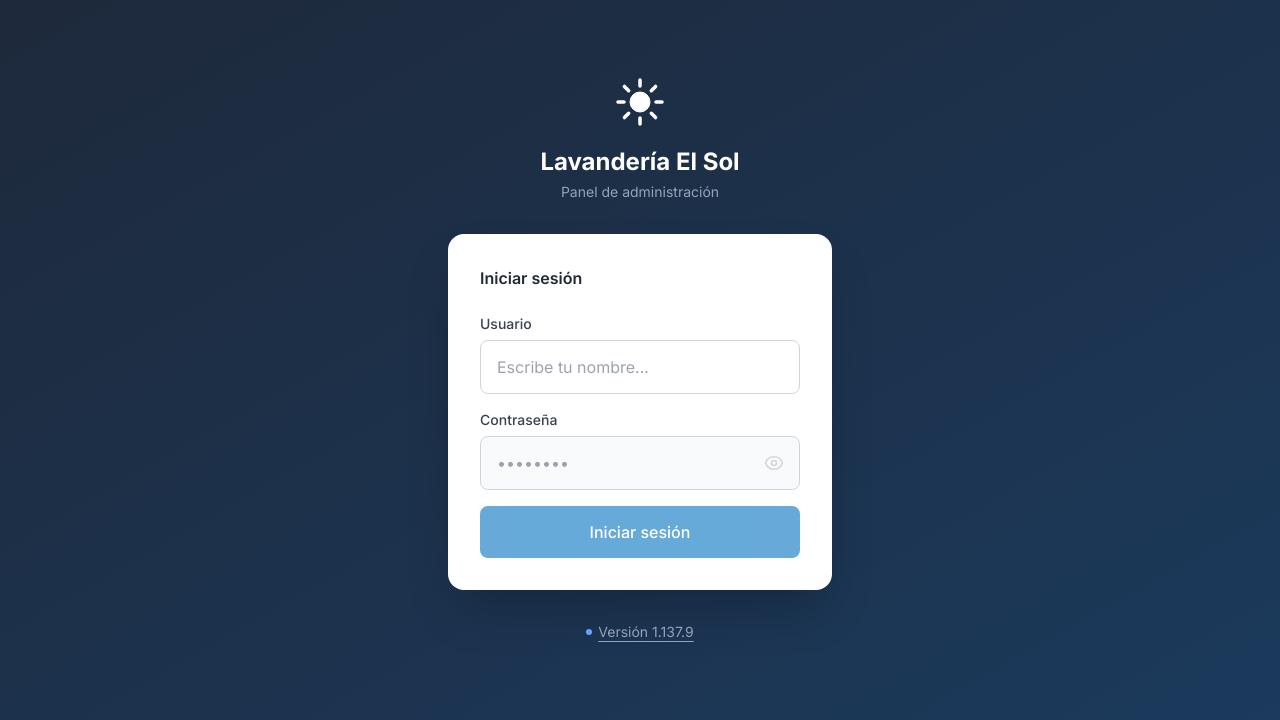
Scenario: Login › la contraseña está deshabilitada hasta elegir un usuario
Expected: the password field with placeholder "••••••••" is disabled, [480, 436, 800, 490]
Type "Juan" into the field with placeholder "Escribe tu nombre..." at (640, 367), box [480, 340, 800, 394]
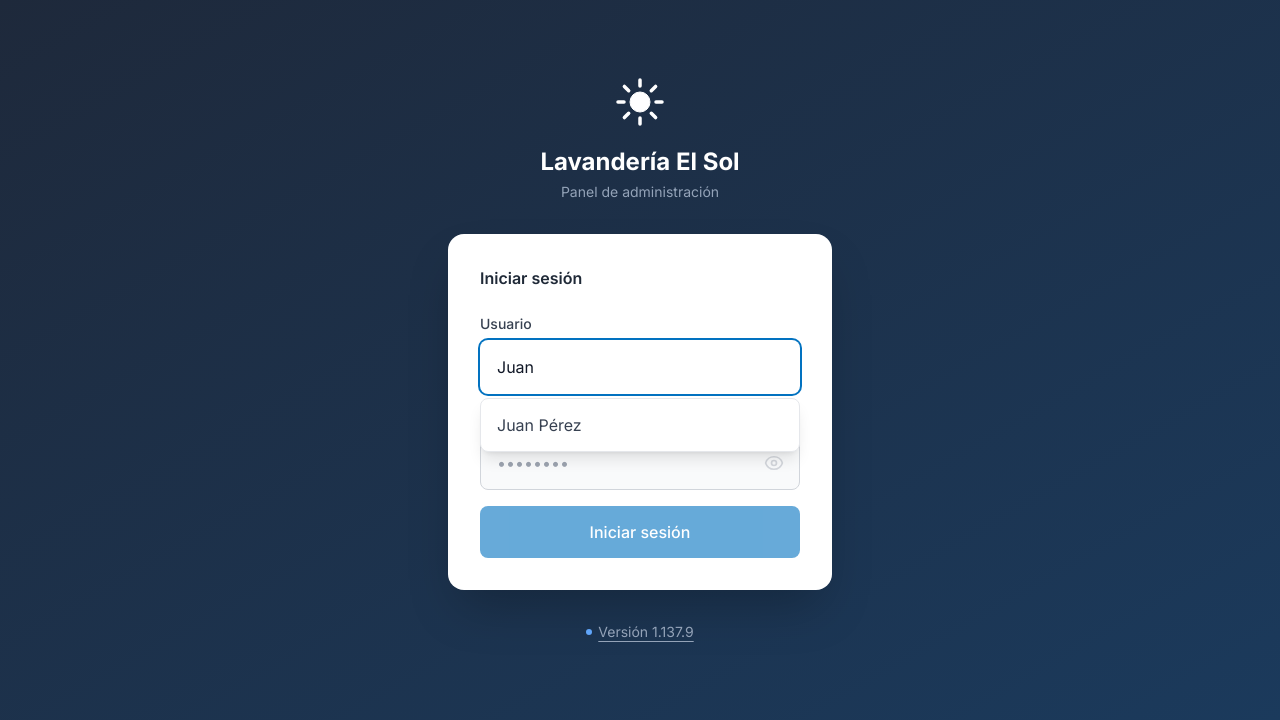
Click the button "Juan Pérez" at (539, 425), box [481, 399, 799, 451]
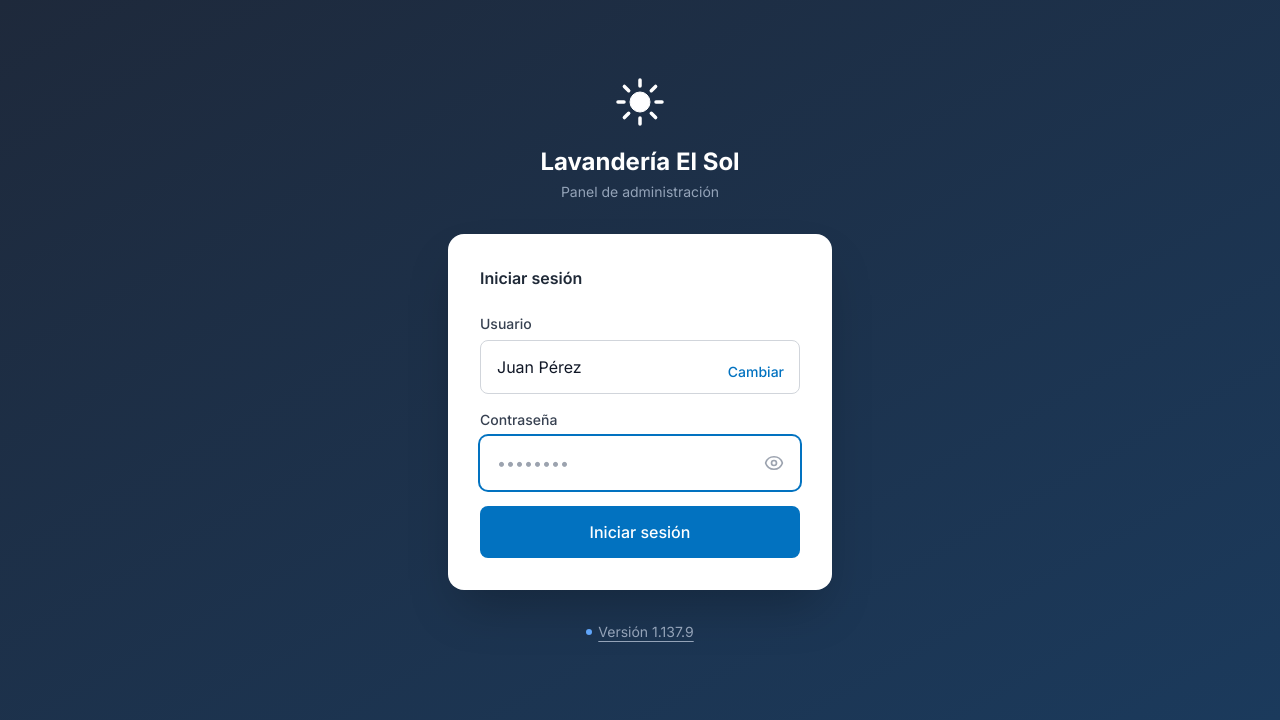
Expected: the password field with placeholder "••••••••" is enabled, [480, 436, 800, 490]
Expected: the button "Cambiar" is shown, [720, 358, 792, 386]
